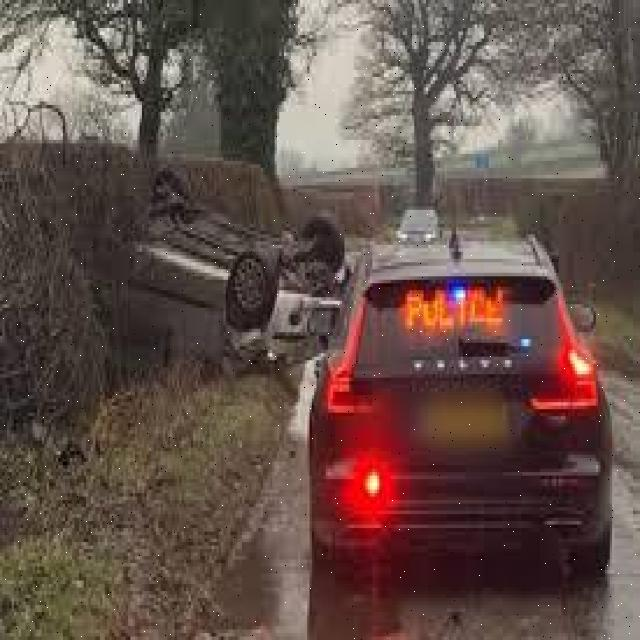severe: (88, 161, 352, 385)
